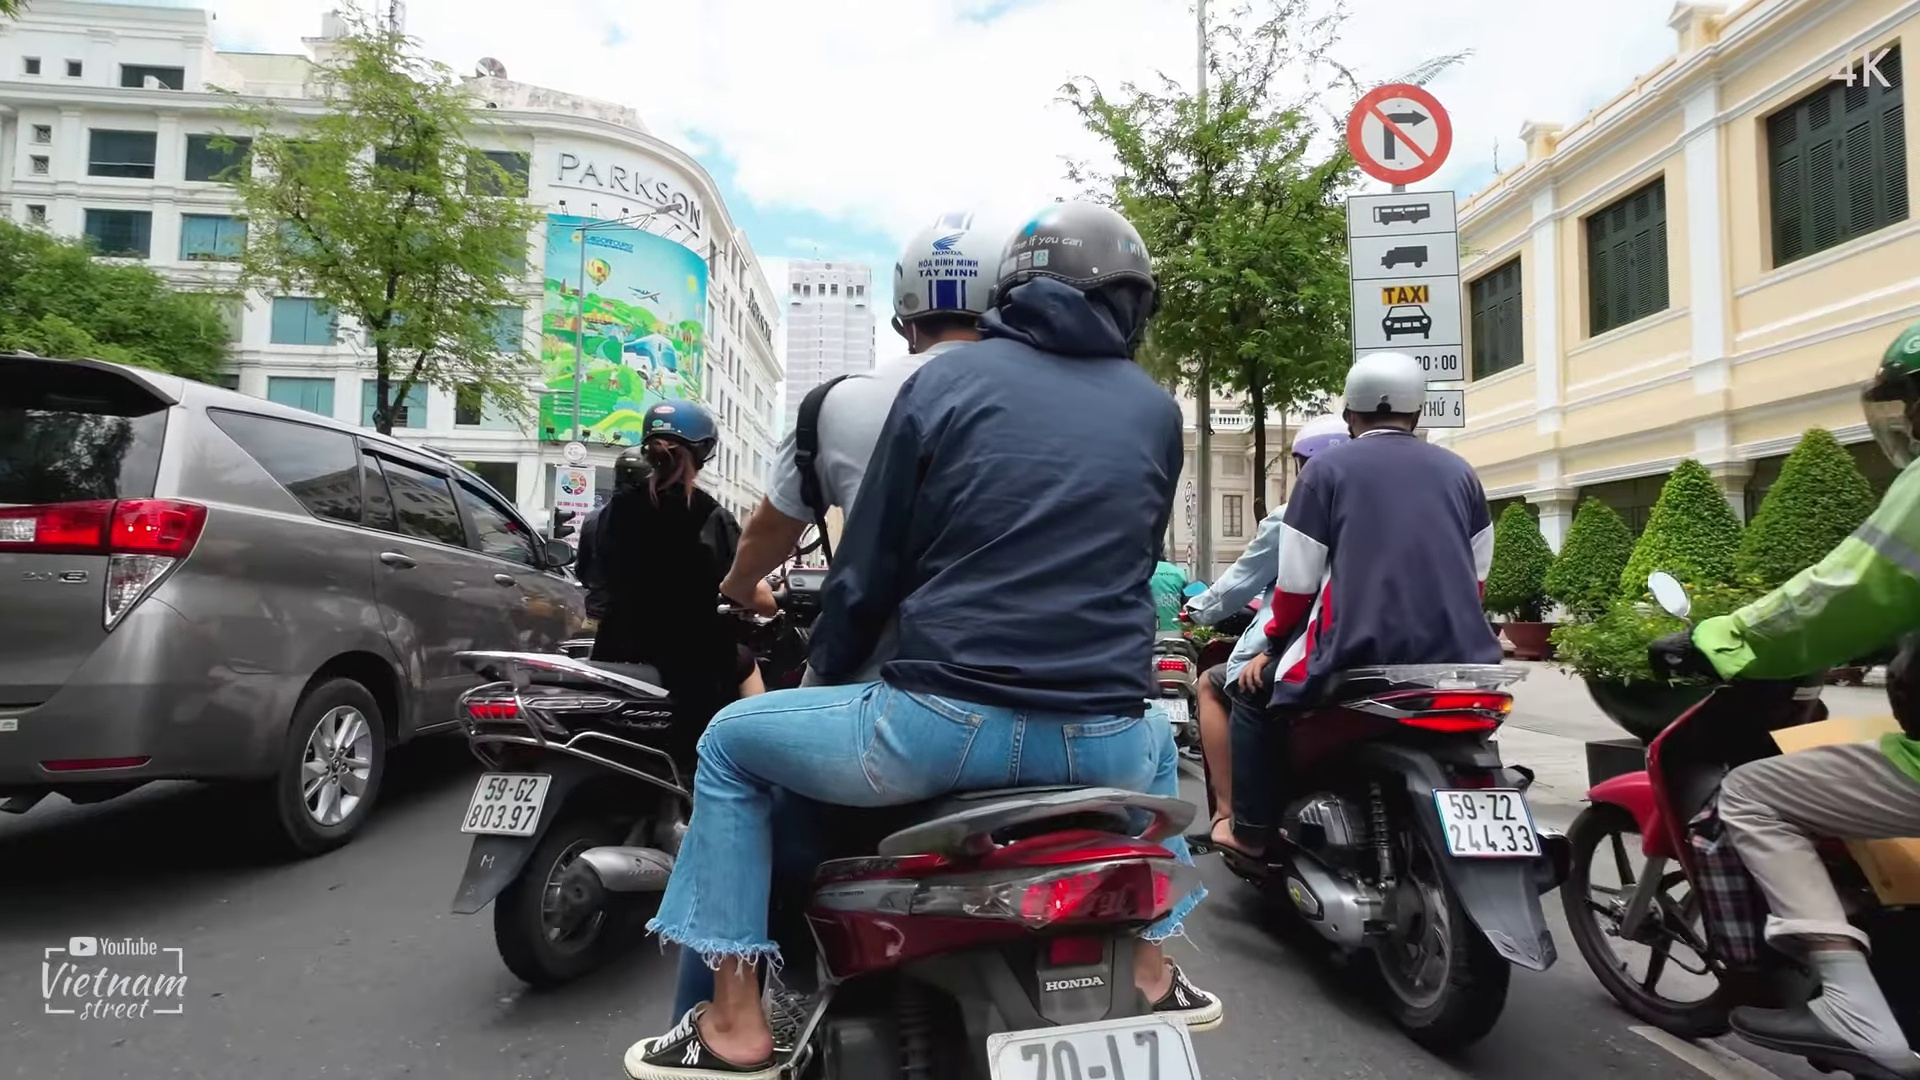cam_re_phai: (1341, 75, 1456, 183)
